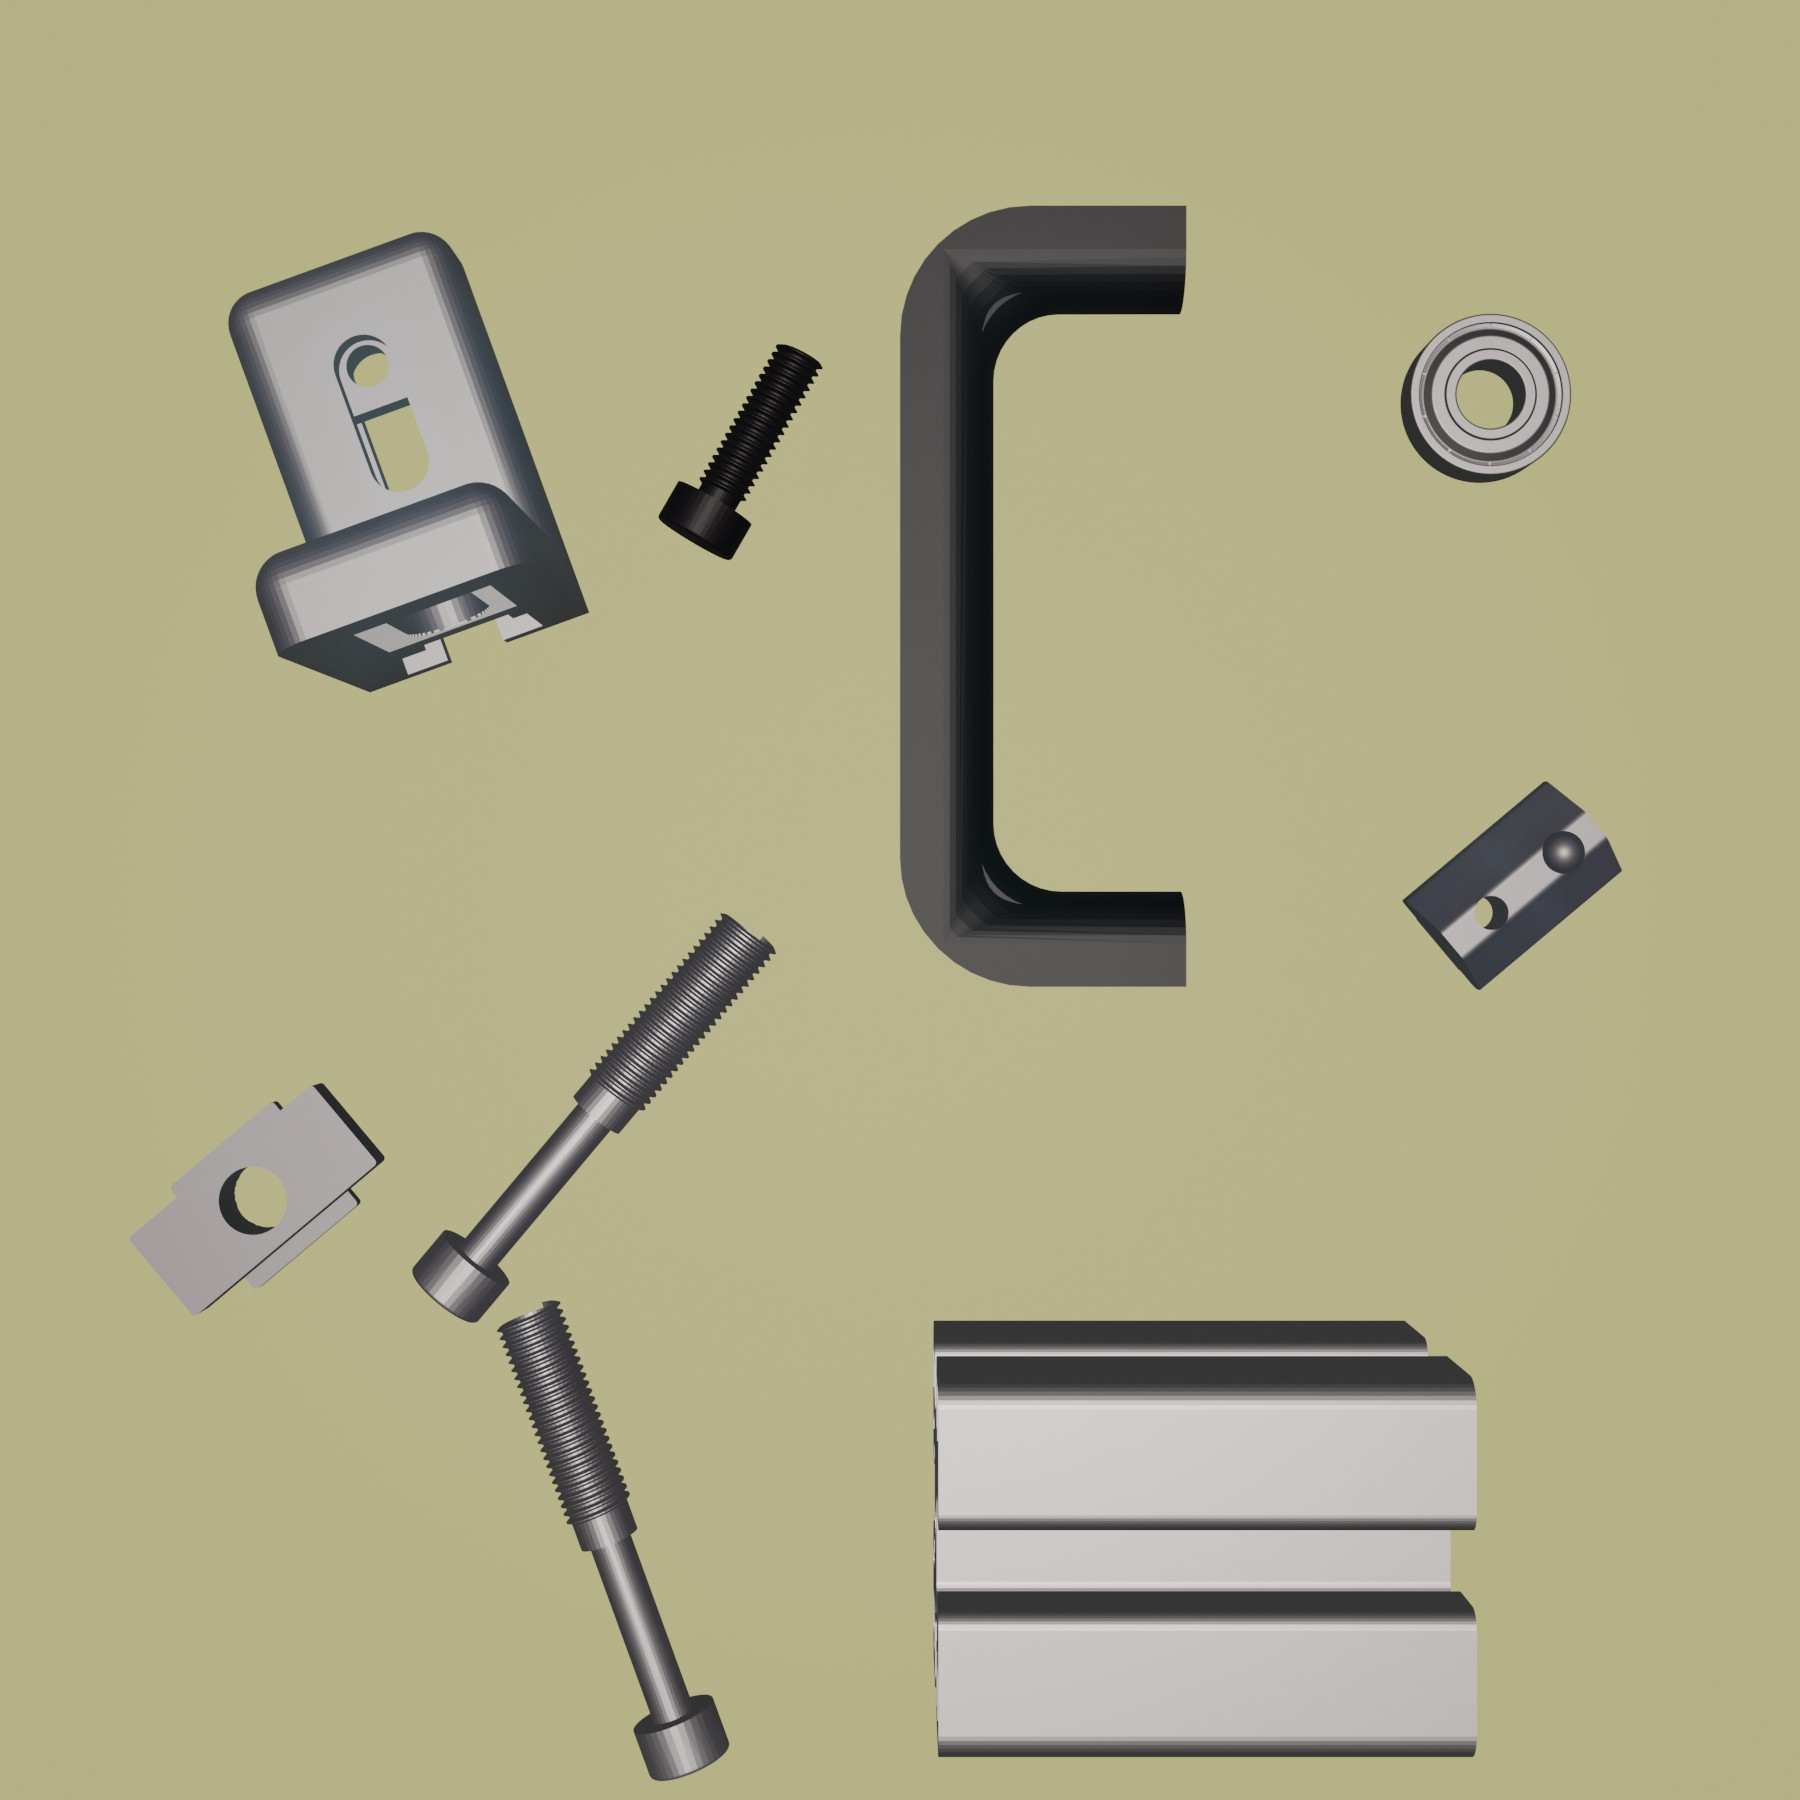Aluminium Extension: (925, 1315, 1488, 1764)
Ball Bearing: (1398, 312, 1574, 485)
Multiwinkel: (227, 226, 592, 696)
Pull Handle: (893, 201, 1192, 992)
Shoulder Socket Head Cap Screw: (412, 908, 776, 1325), (498, 1296, 732, 1782)
Socket Head Cap Screw: (654, 340, 827, 564)
T Nut Square: (127, 1076, 387, 1319)
T Spring Nut: (1401, 776, 1627, 996)
